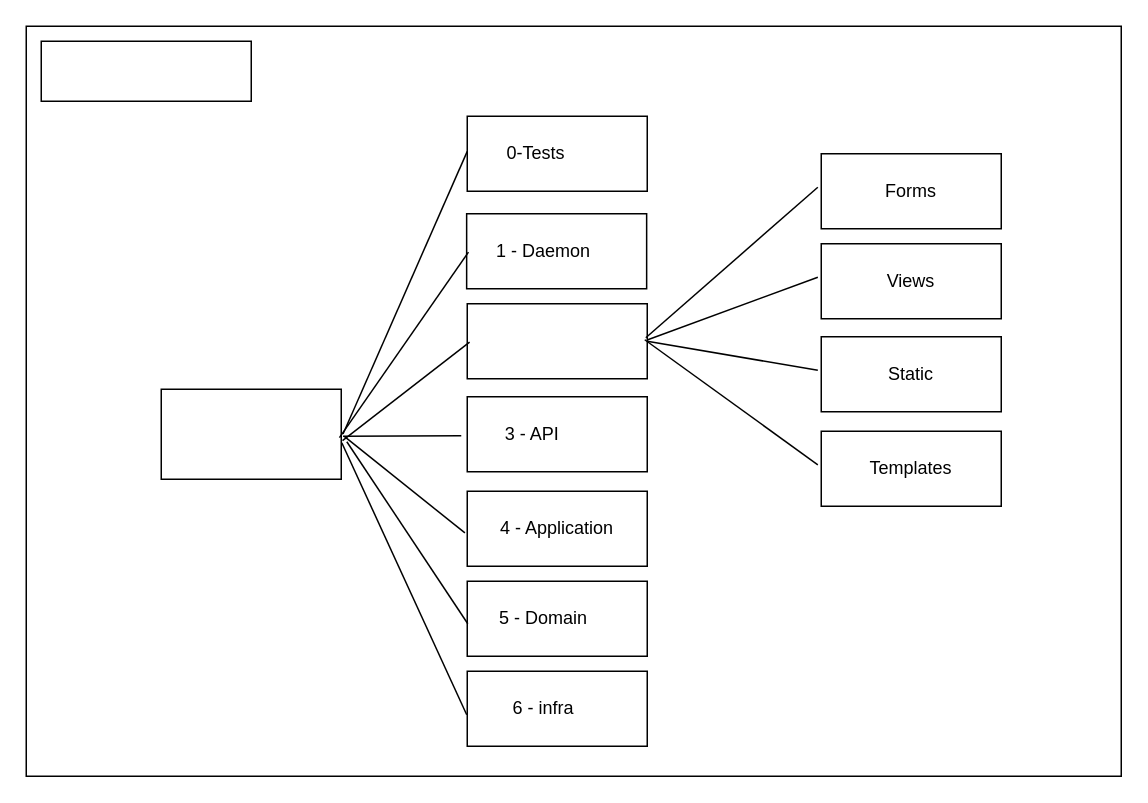
Image size: 1148x803. Some labels were removed from this diagram. The shapes that lost their labels are listed below. From the top down, each one's centre as x and y in pixels, then its label:
the point at 145,70: Vinicius Andrade 14/12/2024
the point at 556,340: 2 - Presentation
the point at 250,433: src
